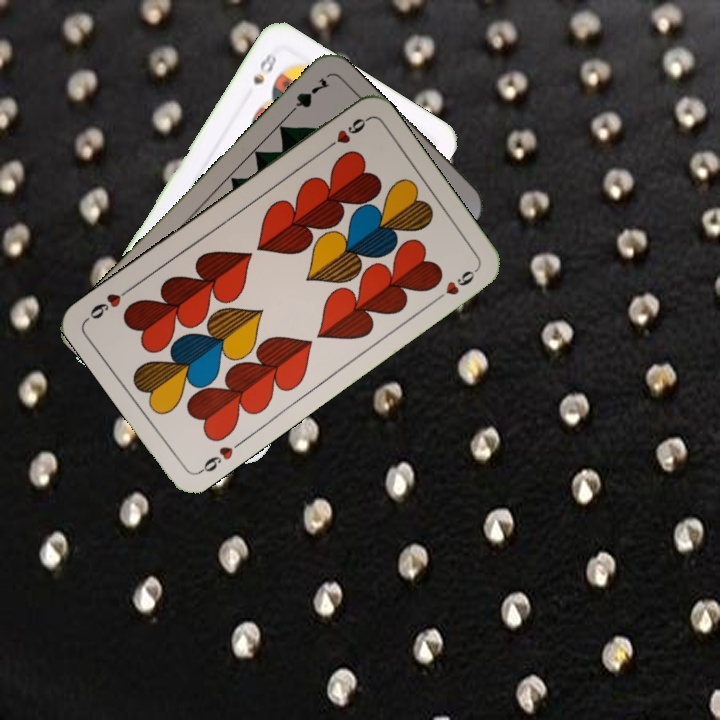G7: (282, 73, 332, 120)
H9: (319, 114, 371, 155), (194, 436, 245, 477)
S8: (248, 48, 280, 88)
